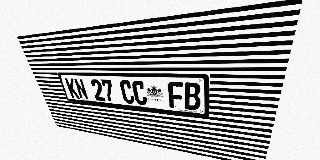2: (90, 79, 106, 101)
7: (100, 79, 116, 102)
B: (184, 82, 200, 111)
C: (131, 80, 148, 105), (119, 80, 135, 104)
F: (167, 82, 184, 109)
K: (65, 78, 80, 99)
N: (73, 79, 89, 100)
